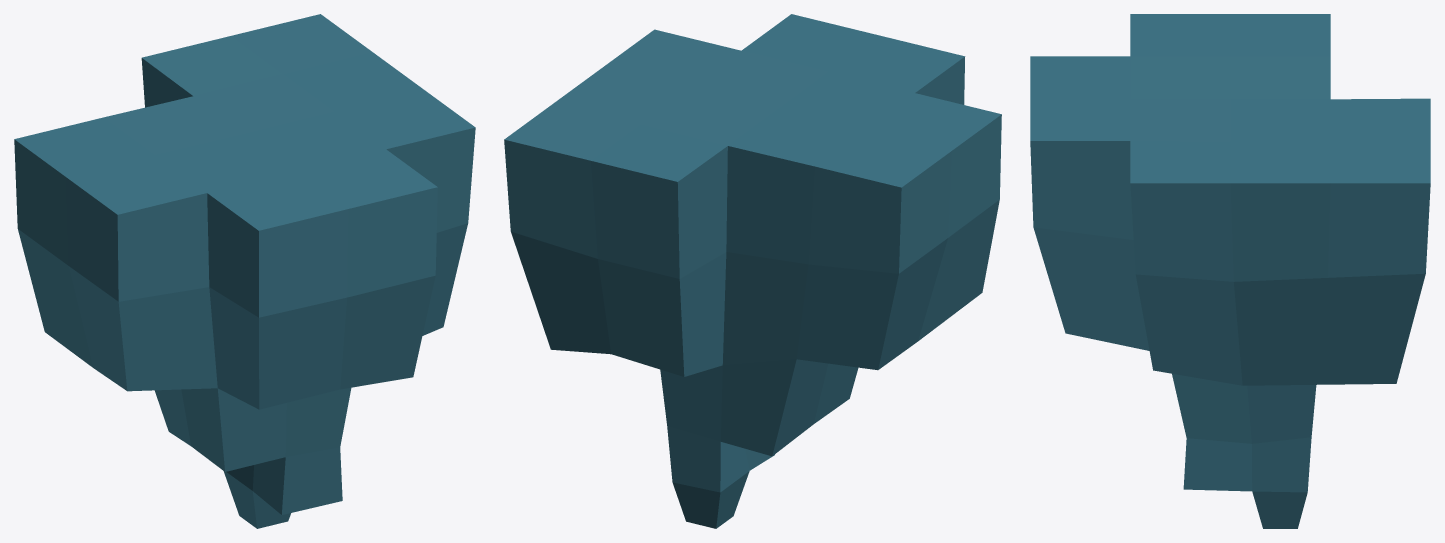
File: FloatingIslandS2.fbx
3 renders of one model, left to right at view 1: azimuth 30°, elevation 25°; view 2: azimuth 150°, elevation 25°; view 3: azimuth 270°, elevation 25°, orthographic. The views are drawn at different scales.
Visible parts, largest first — view 1: Cube.003; view 2: Cube.003; view 3: Cube.003.
Part boxes in pixels (x1=…): Cube.003: x1=14, y1=14, x2=475, y2=528; Cube.003: x1=504, y1=14, x2=1001, y2=528; Cube.003: x1=1030, y1=14, x2=1430, y2=528.
Bounding box in the file's own units: 26.78 × 29.66 × 26.78.
1 material, 1 textured.
